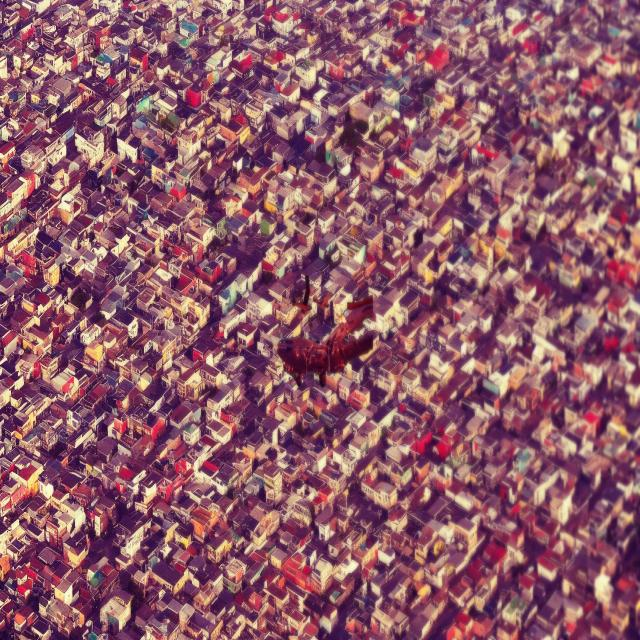airplane: (276, 294, 375, 386)
